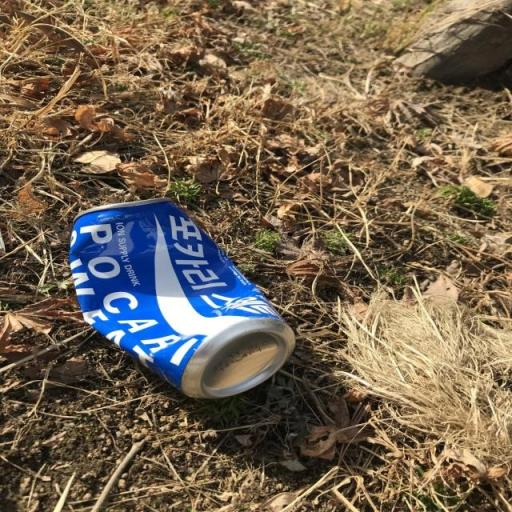metal: (52, 190, 314, 418)
